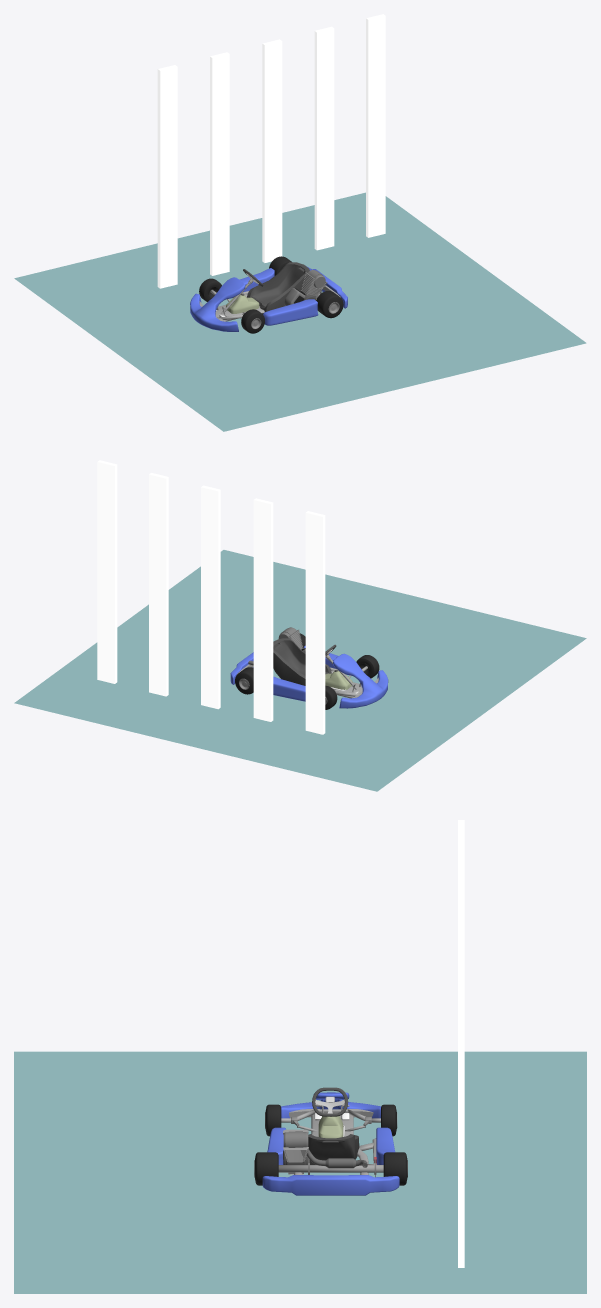
Rendered from gokart.glb.
The picture shows the model from 3 angles, top to bottom: view 1: azimuth 30°, elevation 25°; view 2: azimuth 150°, elevation 25°; view 3: azimuth 270°, elevation 25°; orthographic projection. The views are drawn at different scales.
Parts seen in each view (by area): view 1: Plane, Cube.030, Cube.028, Cube.029, Cube.031, Cube.027, Cube.005, Cube.001, Cube.003, Cylinder.005; view 2: Plane, Cube.030, Cube.031, Cube.027, Cube.028, Cube.029, Cube.001, Cube.005, Cube.002, Cylinder.003; view 3: Plane, Cube.004, Cube.031, Cube.005, Cube.001, Cylinder.004, Cylinder.003, Cylinder.005.
Boxes of the visible parts, x1,y1,x2,y2 form: Plane: [14, 192, 586, 431]; Cube.030: [157, 65, 177, 288]; Cube.028: [314, 26, 334, 250]; Cube.029: [262, 39, 282, 262]; Cube.031: [366, 14, 385, 237]; Cube.027: [210, 52, 229, 275]; Cube.005: [247, 262, 309, 311]; Cube.001: [190, 277, 245, 331]; Cube.003: [263, 299, 318, 325]; Cylinder.005: [316, 291, 343, 318]; Plane: [14, 550, 586, 791]; Cube.030: [305, 511, 325, 734]; Cube.031: [97, 460, 117, 683]; Cube.027: [253, 498, 273, 721]; Cube.028: [149, 473, 168, 696]; Cube.029: [201, 485, 220, 709]; Cube.001: [333, 653, 388, 708]; Cube.005: [273, 638, 331, 685]; Cube.002: [273, 676, 305, 701]; Cylinder.003: [235, 667, 253, 694]; Plane: [14, 1051, 586, 1293]; Cube.004: [262, 1175, 399, 1195]; Cube.031: [458, 959, 464, 1267]; Cube.005: [306, 1134, 359, 1164]; Cube.001: [281, 1092, 381, 1118]; Cylinder.004: [278, 1165, 383, 1172]; Cylinder.003: [383, 1152, 407, 1185]; Cylinder.005: [254, 1152, 278, 1185].
Bounding box in the file's own units: 7.3 × 4.3 × 7.3.
